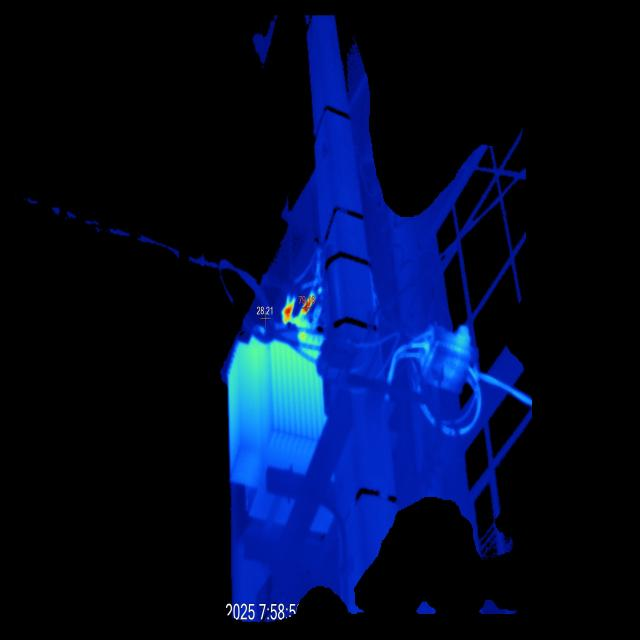Loose Joint F: (282, 300, 294, 323)
Point Overload F: (301, 293, 315, 313)
